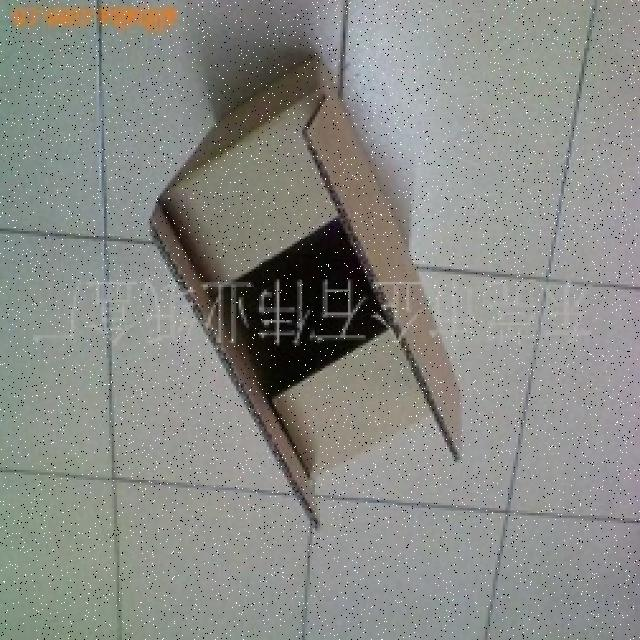box: (150, 48, 471, 495)
